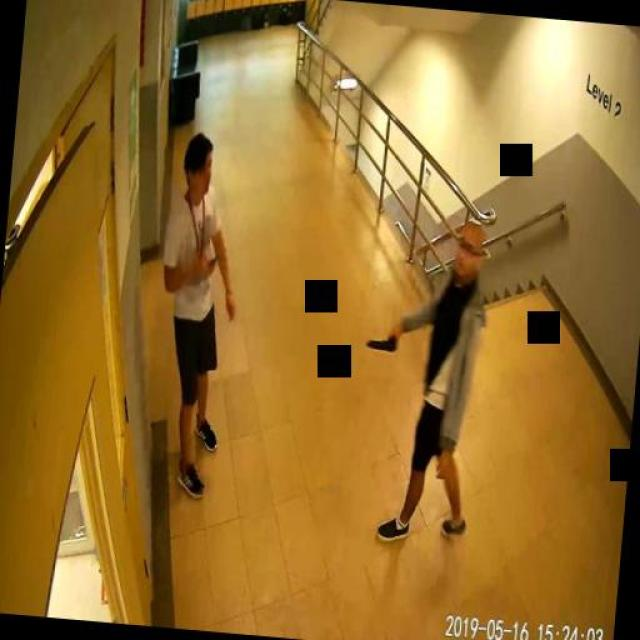gun: (363, 326, 398, 354)
